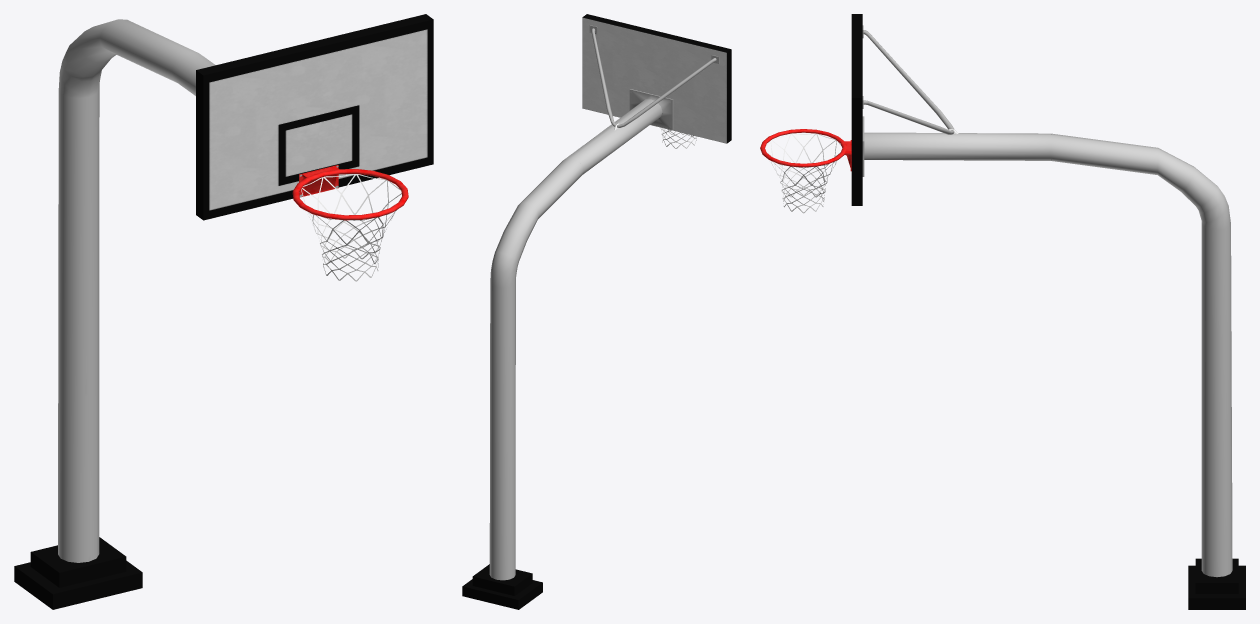
Rendered from Basketballk.glb.
3 renders of one model, left to right at view 1: azimuth 30°, elevation 25°; view 2: azimuth 150°, elevation 25°; view 3: azimuth 270°, elevation 25°, orthographic. The views are drawn at different scales.
Visible parts, largest first — view 1: BasktBallBasket Optimized; view 2: BasktBallBasket Optimized; view 3: BasktBallBasket Optimized.
Part boxes in pixels (x1,y1,x2,y2): BasktBallBasket Optimized: (14, 14, 433, 609); BasktBallBasket Optimized: (462, 14, 731, 609); BasktBallBasket Optimized: (760, 14, 1245, 609).
Bounding box in the file's own units: 1.15 × 3.41 × 2.8.
Materials: 1 (1 with a texture image).
